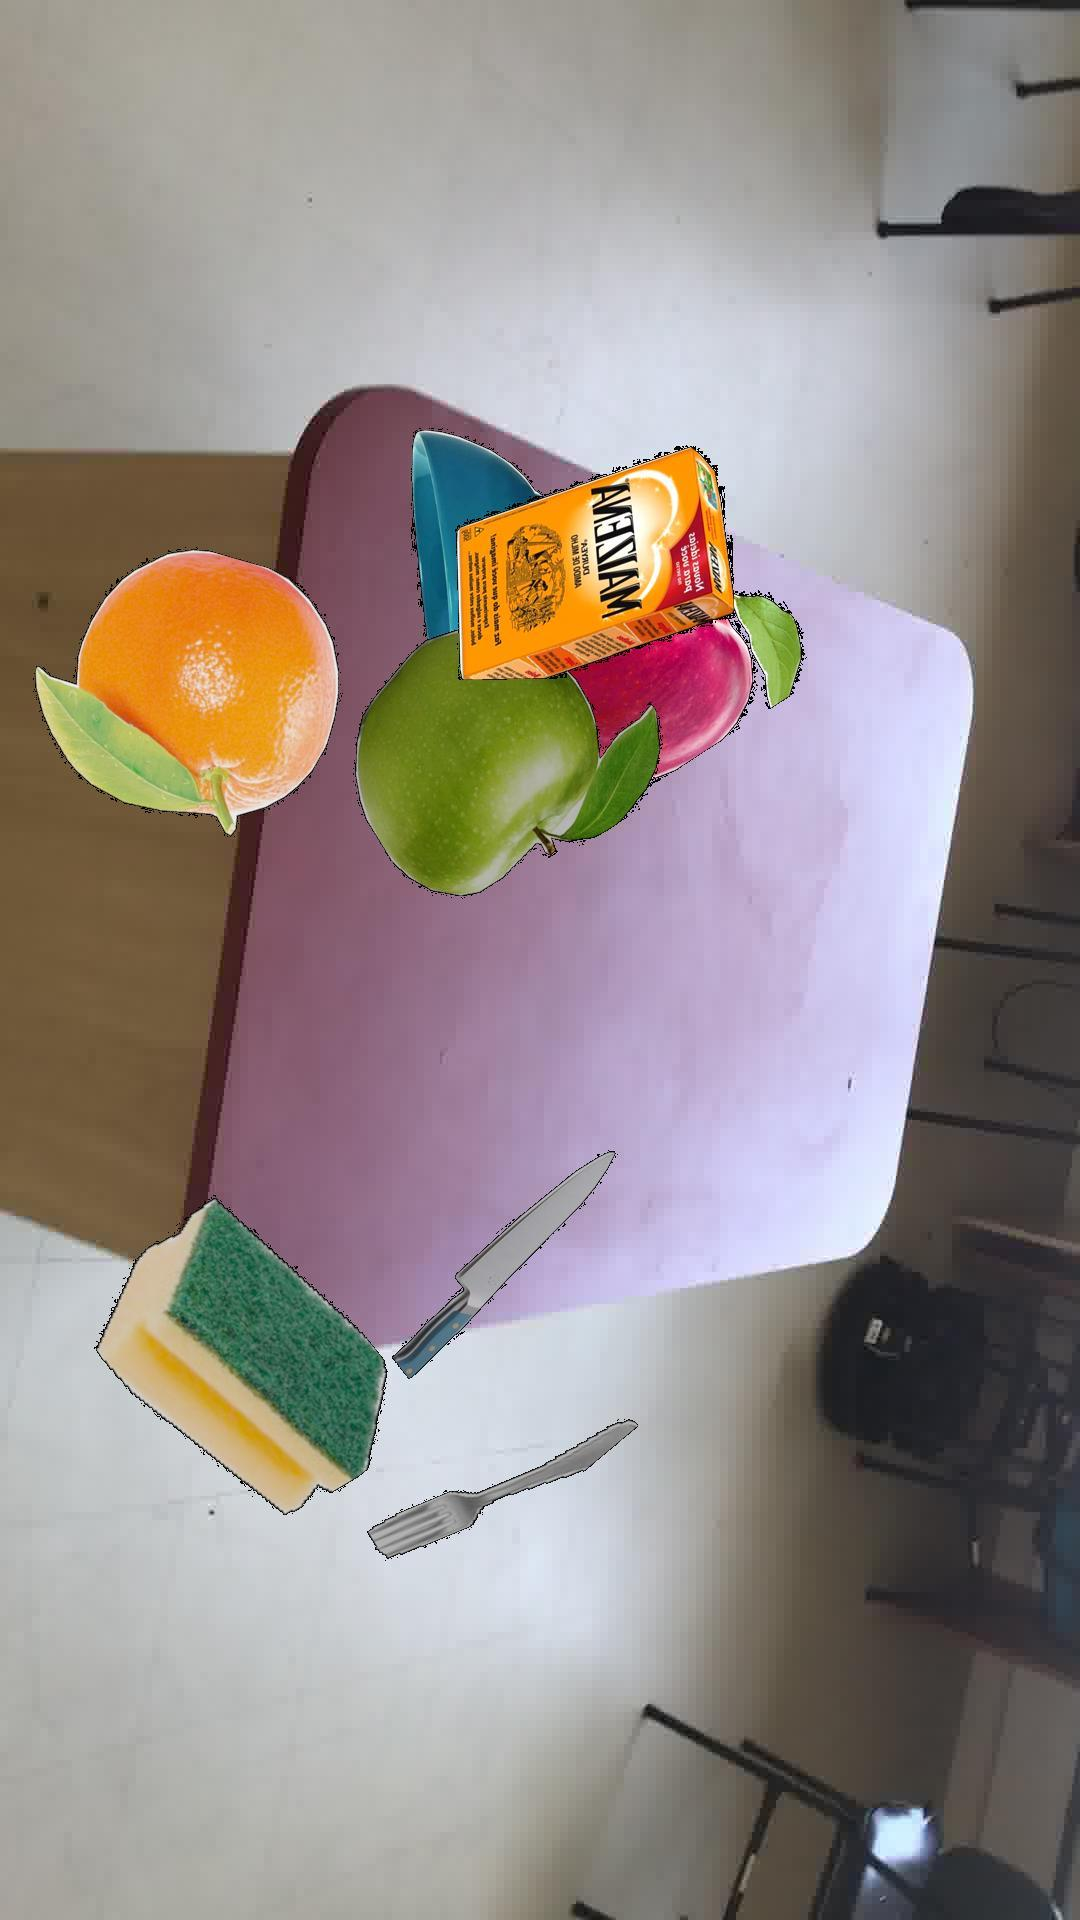apple: (567, 589, 803, 782)
bowl: (410, 429, 542, 637)
fork: (365, 1418, 637, 1557)
green apple: (352, 629, 662, 894)
knife: (390, 1150, 615, 1378)
orange: (33, 547, 338, 836)
sponge: (92, 1196, 386, 1514)
